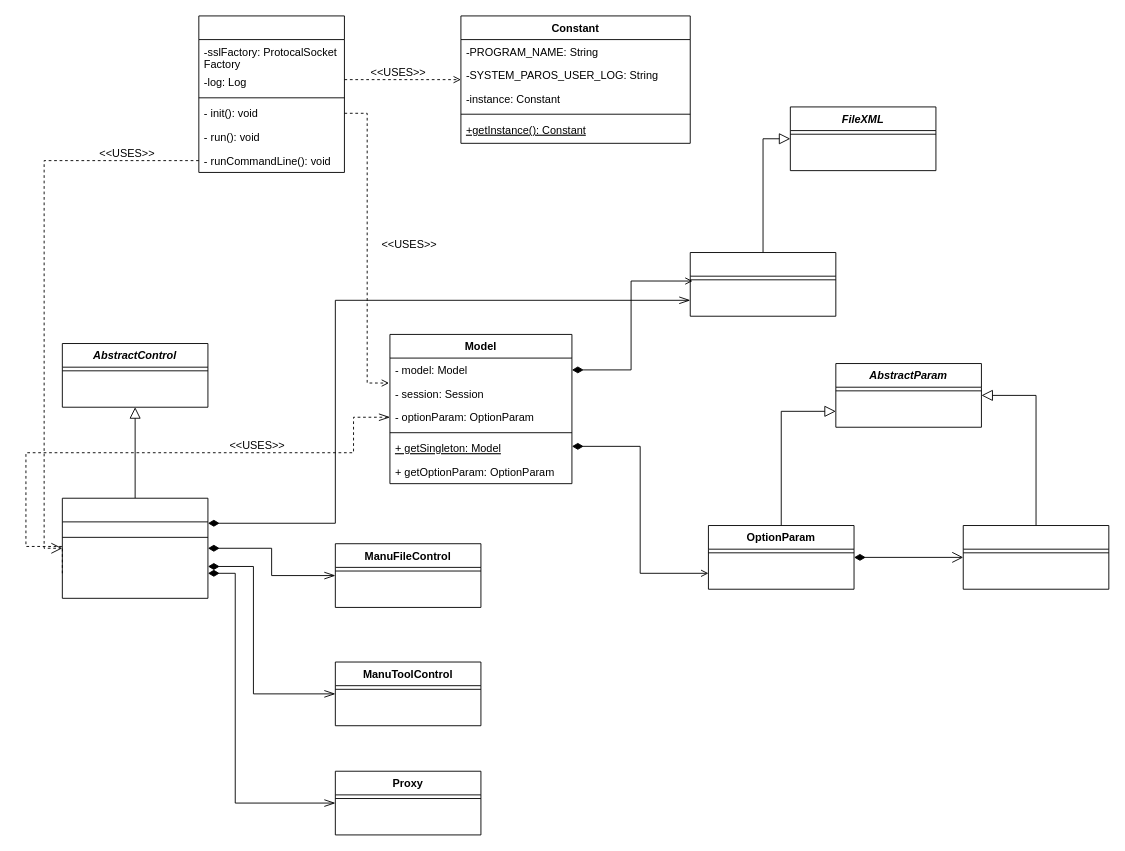
This 1125x851 diagram has some shape labels left out. The box of each missing label's shape, as (x1, y1, x2, y2) in pixels:
Control: (61, 497, 208, 598)
Paros: (198, 15, 344, 172)
ProxyParam: (962, 525, 1109, 589)
Session: (689, 252, 836, 316)
